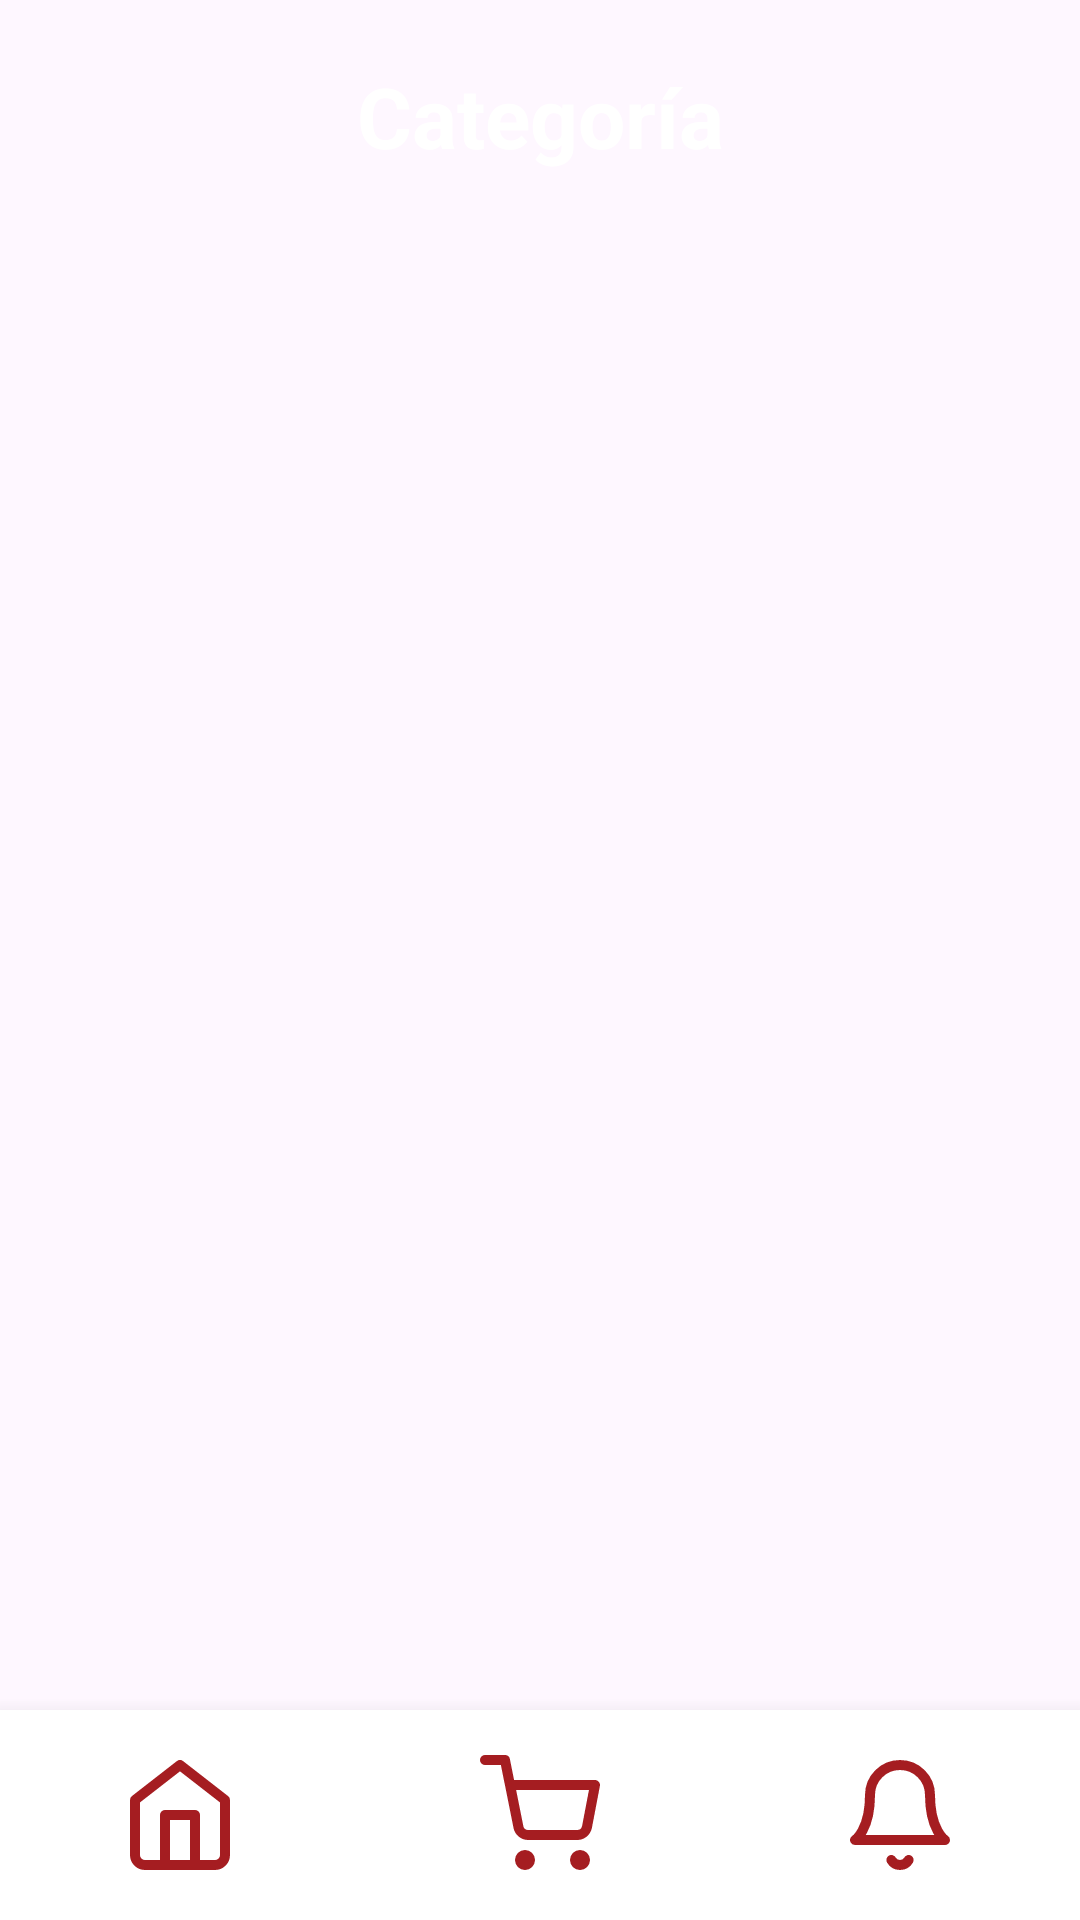

Named icons in this screenshot (1080×1920) and their bounding boxes, [x1, y1, x2, y2]:
Carrito: [480, 1755, 600, 1870]
Inicio: [130, 1760, 230, 1870]
Notificaciones: [850, 1760, 950, 1870]
